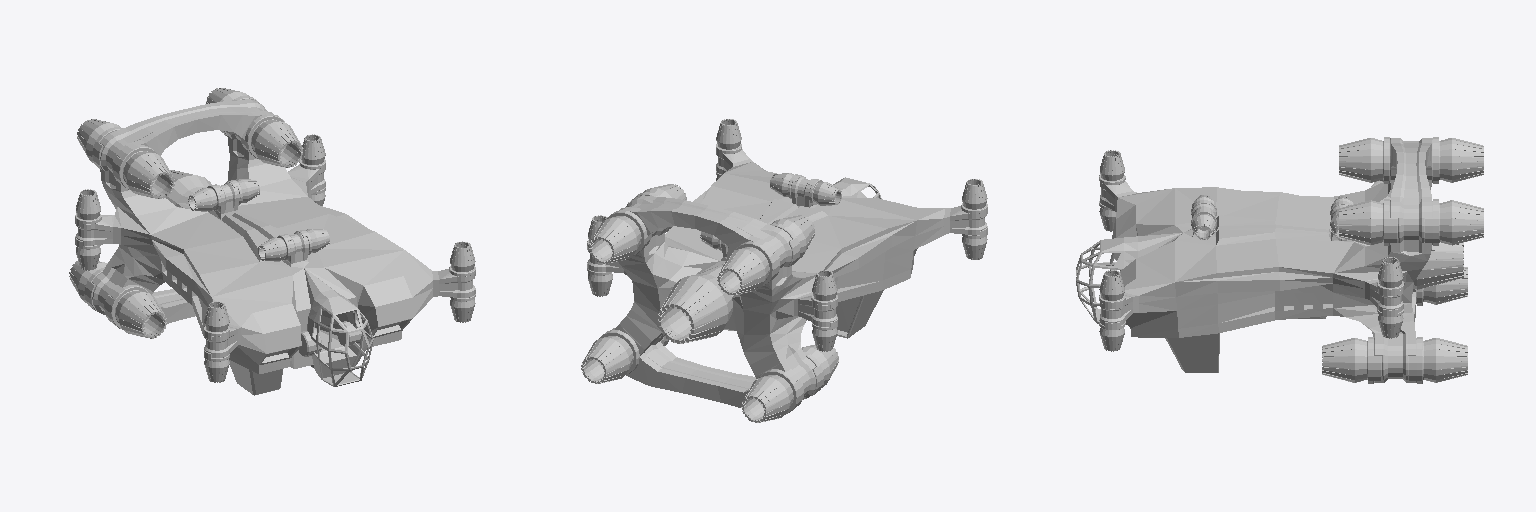
3 renders of one model, left to right at view 1: azimuth 30°, elevation 25°; view 2: azimuth 150°, elevation 25°; view 3: azimuth 270°, elevation 25°, orthographic.
Visible parts, largest first — view 1: Spacecraft; view 2: Spacecraft; view 3: Spacecraft.
Part boxes in pixels (left/top/right/bottom): Spacecraft: left=69, top=88, right=475, bottom=395; Spacecraft: left=581, top=119, right=987, bottom=422; Spacecraft: left=1076, top=137, right=1483, bottom=383.
Bounding box in the file's own units: 27.03 × 17.93 × 35.55.